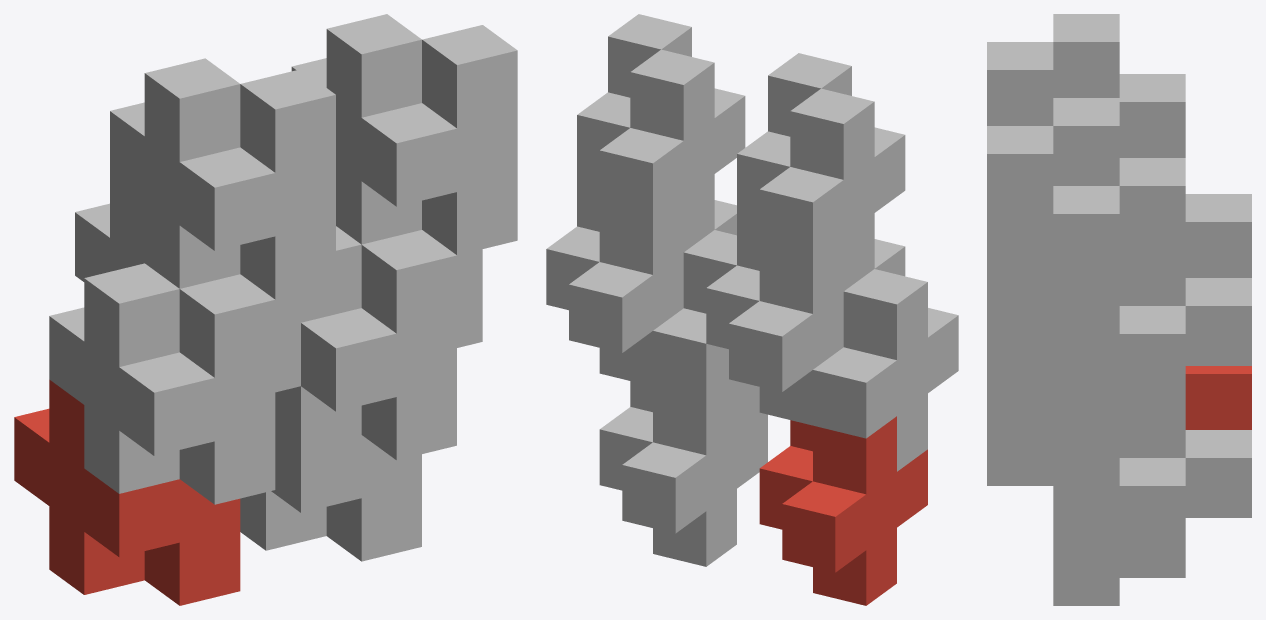
The model's file is tiling.obj.
3 renders of one model, left to right at view 1: azimuth 30°, elevation 25°; view 2: azimuth 150°, elevation 25°; view 3: azimuth 270°, elevation 25°, orthographic. The views are drawn at different scales.
Parts seen in each view (by area): view 1: copy_1_domain_2, copy_1_domain_4, copy_1_domain_8, copy_1_domain_6, copy_1_domain_1, copy_1_domain_5, copy_1_domain_3, copy_1_domain_7; view 2: copy_1_domain_4, copy_1_domain_8, copy_1_domain_1, copy_1_domain_5, copy_1_domain_2, copy_1_domain_3, copy_1_domain_7, copy_1_domain_6; view 3: copy_1_domain_8, copy_1_domain_7, copy_1_domain_5, copy_1_domain_4, copy_1_domain_6, copy_1_domain_3, copy_1_domain_1.
Boxes of the visible parts, x1=… form: copy_1_domain_2: x1=49, y1=263, x2=275, y2=504; copy_1_domain_4: x1=110, y1=58, x2=335, y2=299; copy_1_domain_8: x1=291, y1=14, x2=517, y2=255; copy_1_domain_6: x1=275, y1=226, x2=456, y2=460; copy_1_domain_1: x1=14, y1=379, x2=240, y2=605; copy_1_domain_5: x1=240, y1=431, x2=421, y2=561; copy_1_domain_3: x1=75, y1=174, x2=300, y2=392; copy_1_domain_7: x1=457, y1=249, x2=482, y2=347; copy_1_domain_4: x1=737, y1=53, x2=905, y2=290; copy_1_domain_8: x1=577, y1=14, x2=745, y2=251; copy_1_domain_1: x1=759, y1=416, x2=927, y2=605; copy_1_domain_5: x1=599, y1=380, x2=767, y2=566; copy_1_domain_2: x1=813, y1=239, x2=958, y2=471; copy_1_domain_3: x1=706, y1=209, x2=843, y2=425; copy_1_domain_7: x1=546, y1=170, x2=683, y2=386; copy_1_domain_6: x1=653, y1=200, x2=762, y2=432; copy_1_domain_8: x1=987, y1=98, x2=1185, y2=333; copy_1_domain_7: x1=1053, y1=246, x2=1251, y2=453; copy_1_domain_5: x1=1053, y1=426, x2=1251, y2=605; copy_1_domain_4: x1=987, y1=14, x2=1185, y2=157; copy_1_domain_6: x1=987, y1=334, x2=1053, y2=485; copy_1_domain_3: x1=1185, y1=194, x2=1251, y2=277; copy_1_domain_1: x1=1185, y1=366, x2=1251, y2=429.
Size of the model in its own units: 6 by 8 by 4.
